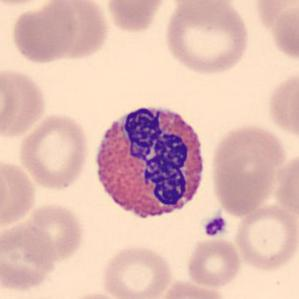Eosinophil: (87, 96, 212, 231)
Platelets: (202, 214, 227, 238)
RBC: (207, 121, 288, 217), (160, 0, 253, 77), (16, 111, 90, 192), (38, 0, 112, 64), (232, 202, 298, 273), (8, 0, 79, 65), (0, 219, 58, 293), (20, 201, 86, 266), (99, 243, 174, 299), (0, 65, 49, 140), (185, 236, 243, 290), (250, 0, 299, 63), (0, 159, 38, 232), (264, 67, 299, 143), (102, 0, 171, 35), (155, 277, 229, 299), (0, 154, 10, 228), (61, 290, 127, 299), (0, 0, 64, 7)
